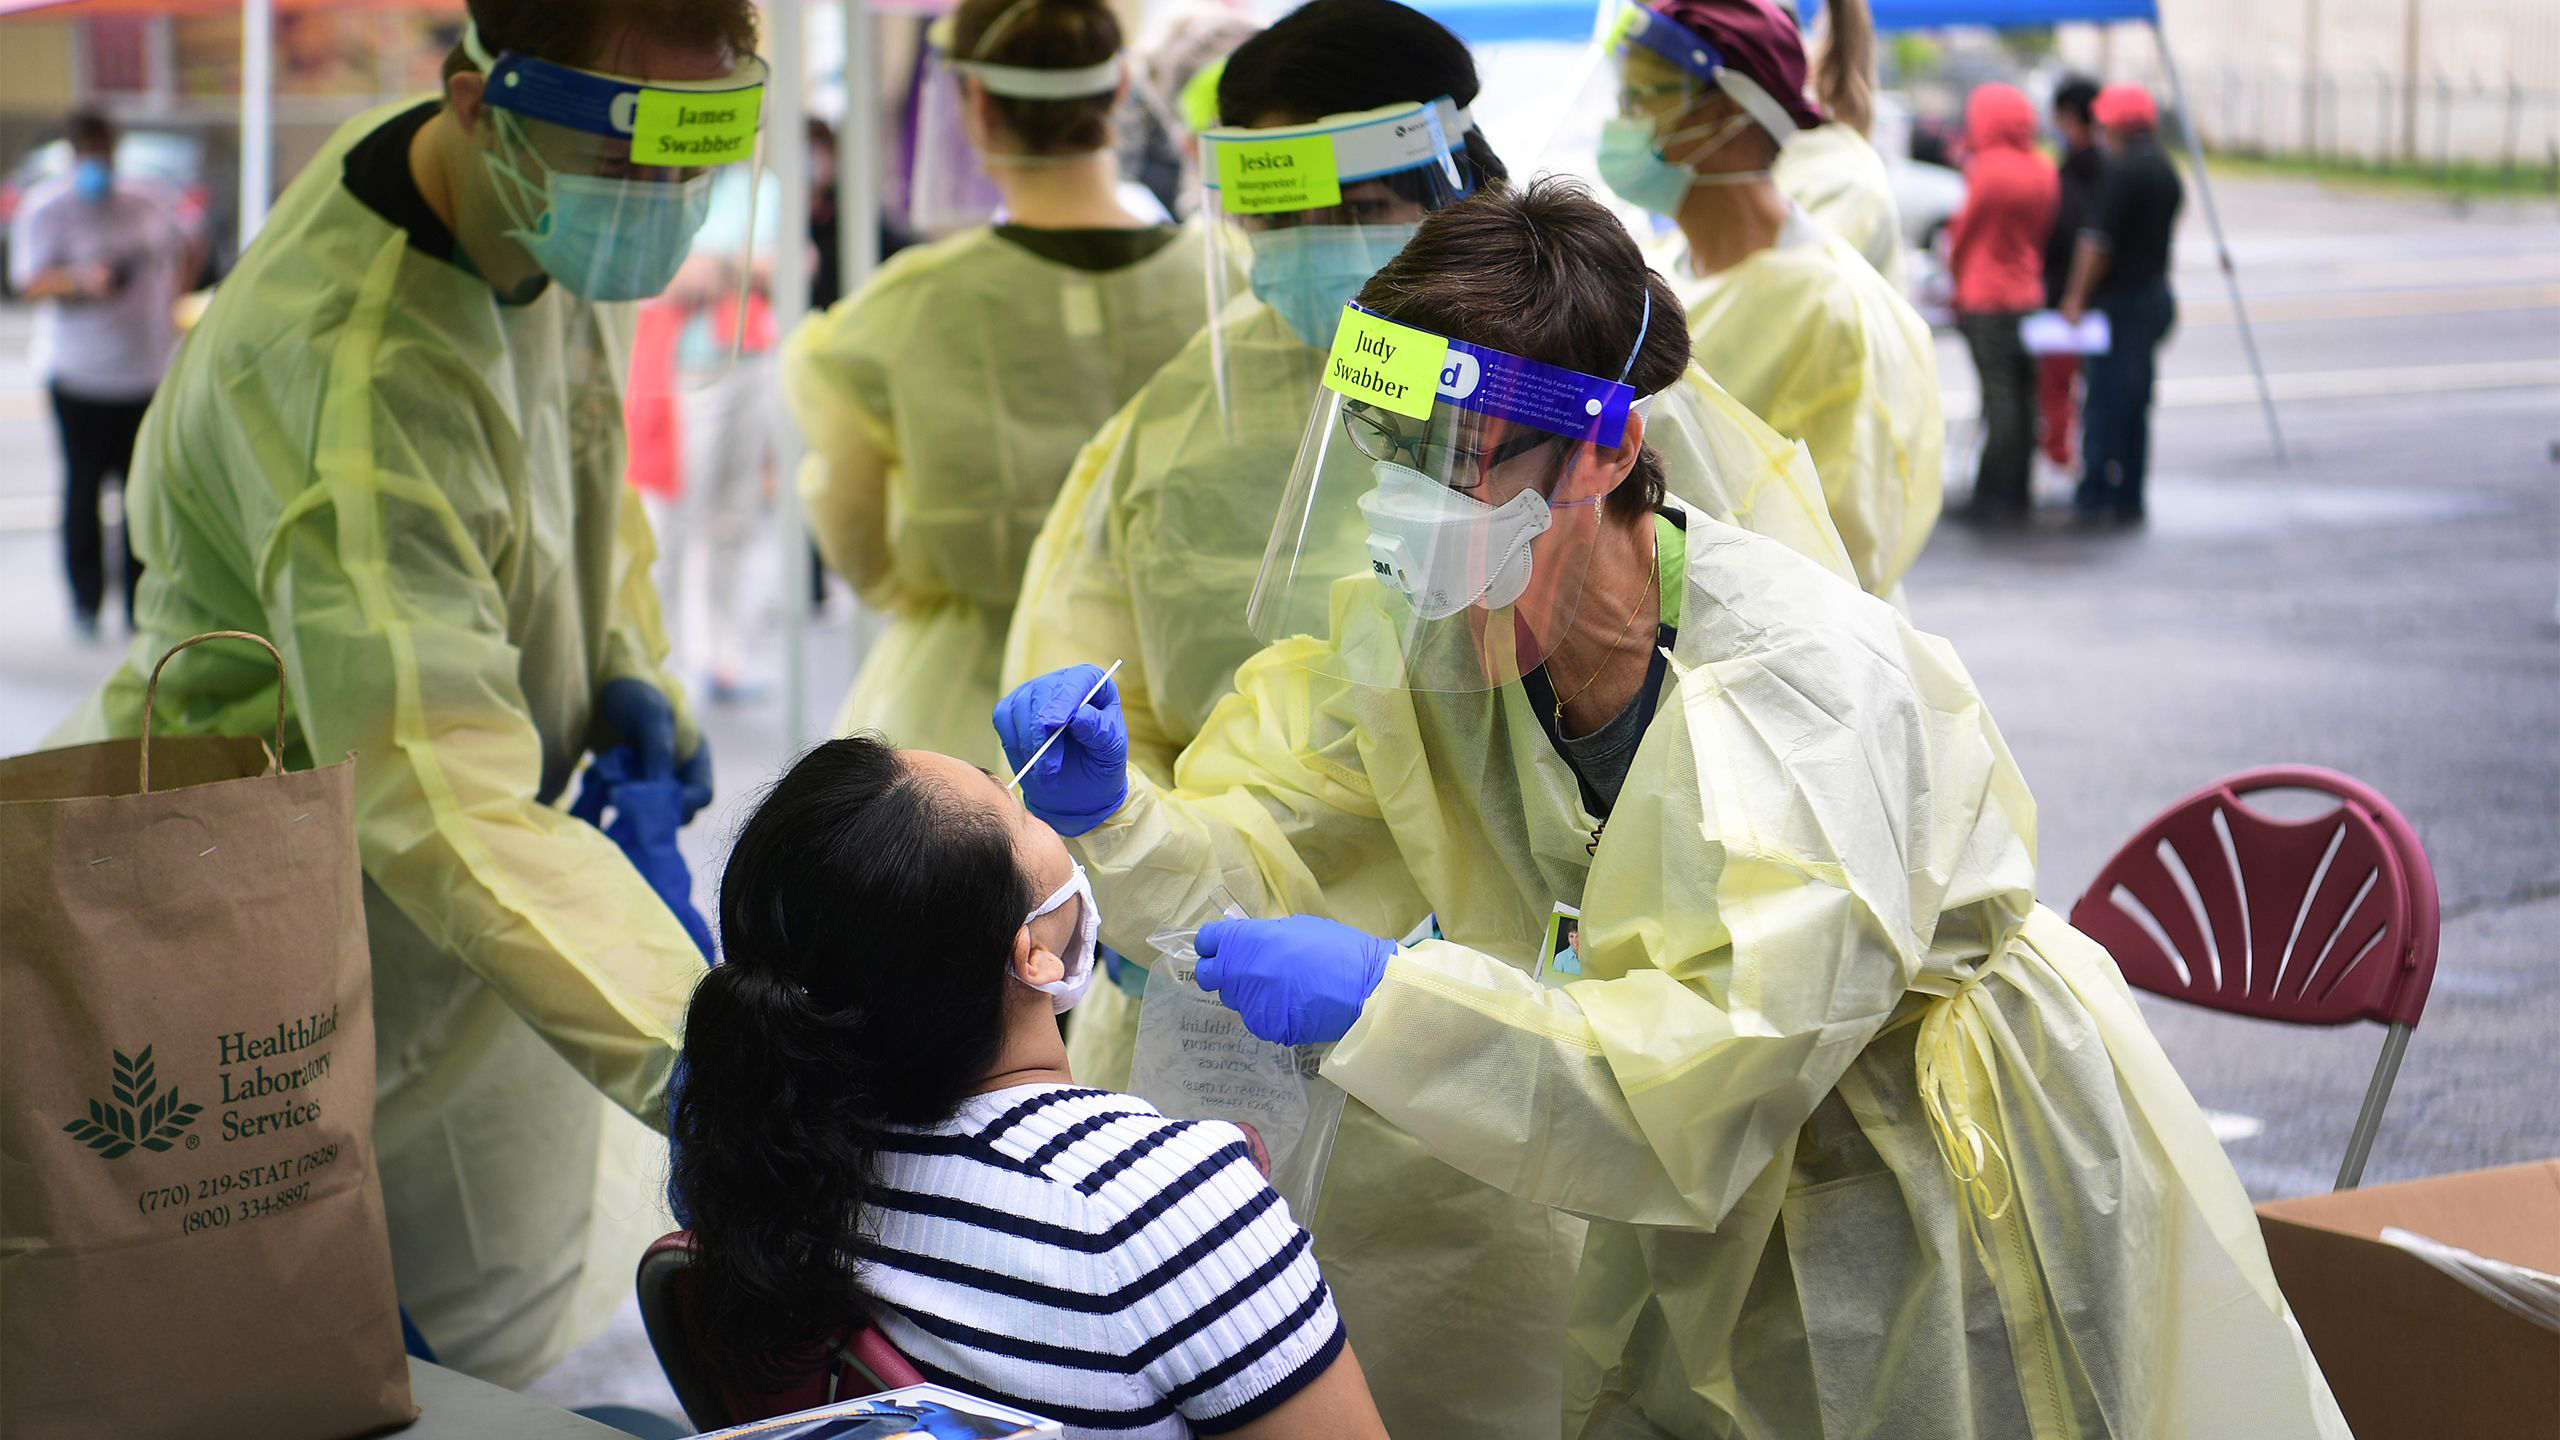Coverall: (1206, 527, 2236, 1440), (133, 132, 658, 1295)
Gloves: (778, 210, 1246, 712), (1181, 889, 1414, 1062), (998, 657, 1163, 847)
with_mask: (1353, 410, 1568, 635), (509, 125, 731, 315), (1239, 190, 1439, 342), (1589, 68, 1731, 218)
